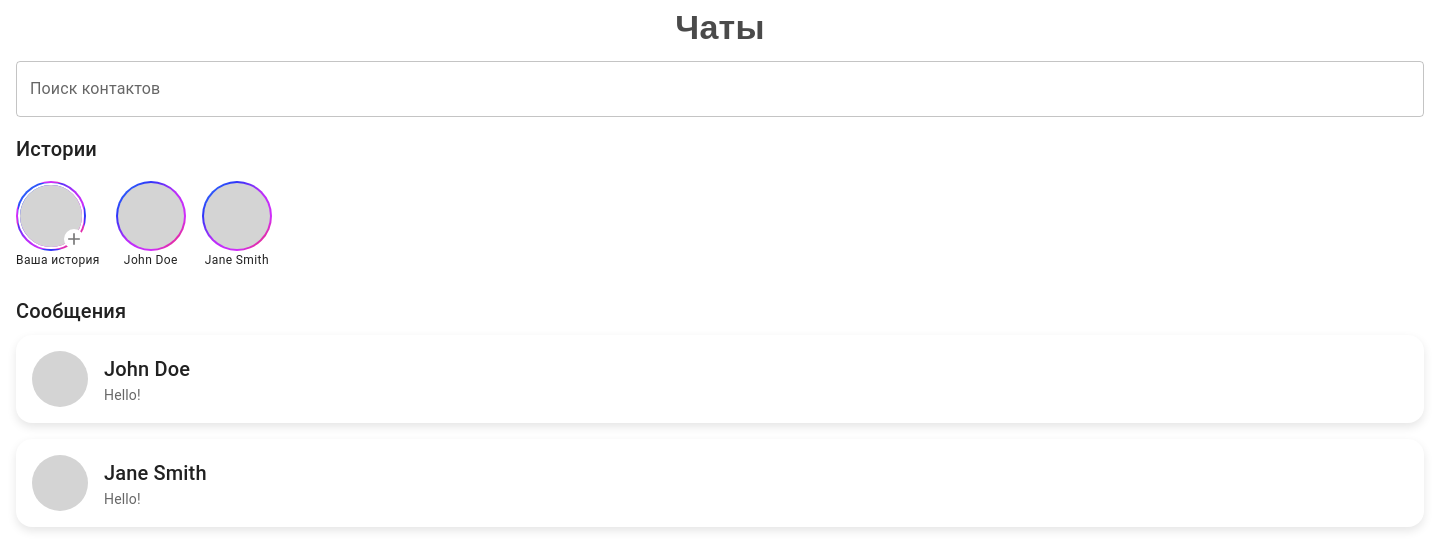
Scenario: ChatPage Component › displays "Контакты не найдены." when search yields no results
Type "Alice" into the field labelled "Поиск контактов" at (720, 89), box 16,61 -> 1424,117
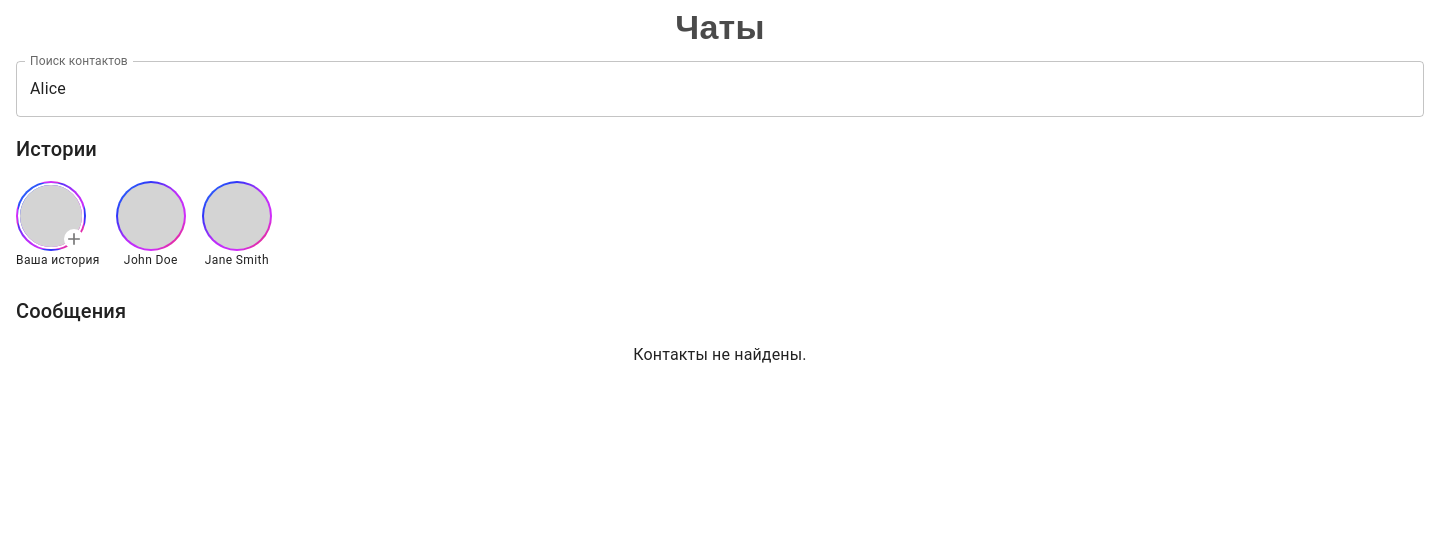
Now the text "Контакты не найдены." is shown, box 633,345 -> 807,364
